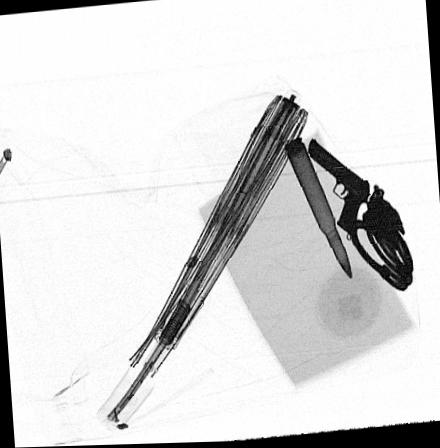Bullet: (281, 137, 354, 280)
Gun: (306, 139, 373, 240)
HandCuffs: (344, 185, 418, 295)
